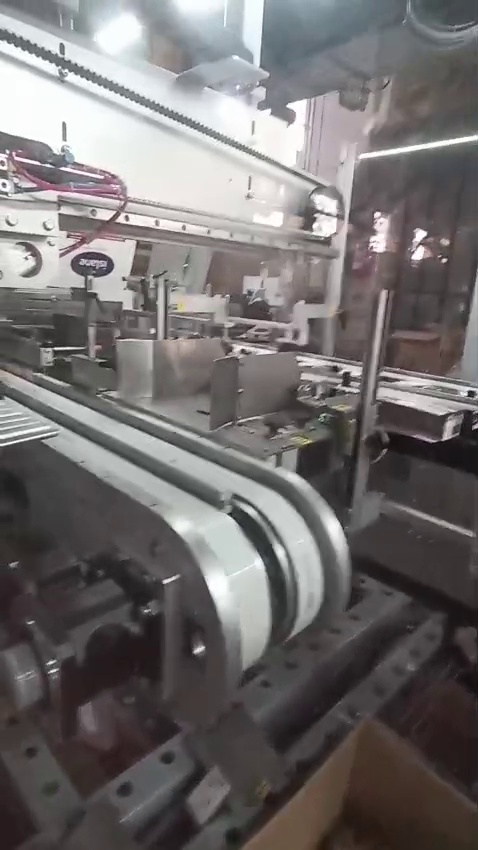savon: (236, 723, 478, 850), (333, 830, 371, 850), (248, 776, 268, 804), (296, 433, 315, 449), (68, 762, 88, 776), (337, 422, 351, 440)
